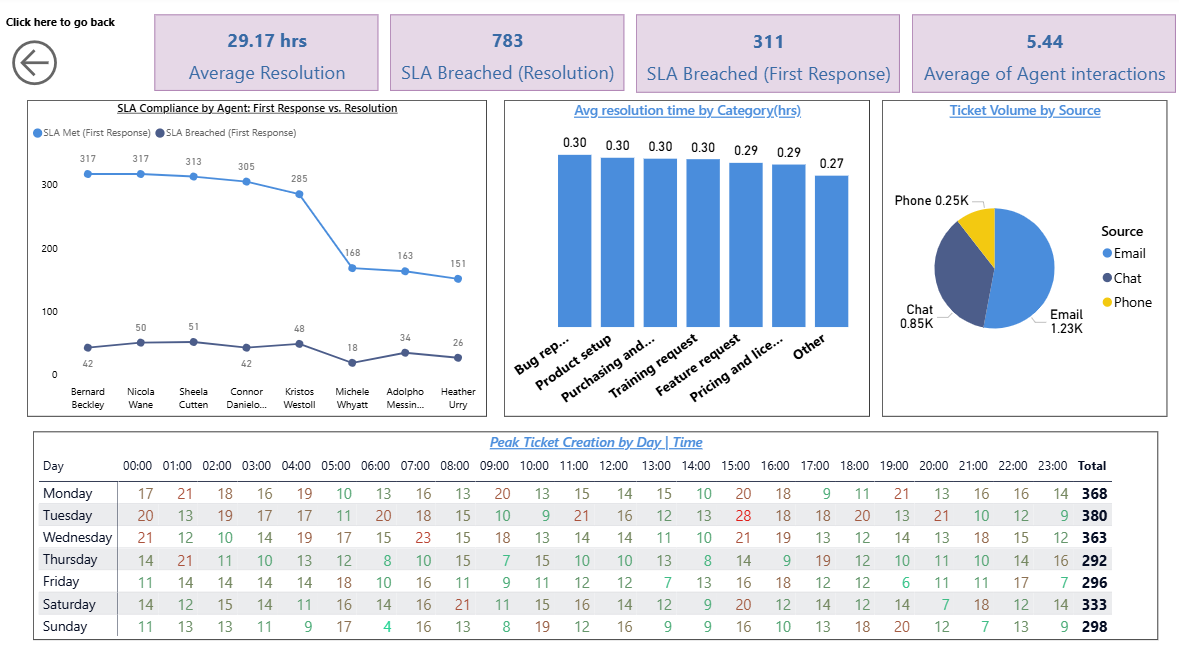

What the dashboard file says about the page in this screenshot:
{"tool":"powerbi","page":{"name":"SLA & Resolution Analysis","canvas":[1280,720],"ordinal":1},"visuals":[{"type":"pivotTable","title":"Peak Ticket Creation by Day | Time","fields":{"Rows":["Technical support.WeekdayName"],"Columns":["Technical support.Create time"],"Values":["CountNonNull(Technical support.Ticket ID)"]},"box":[35.8,473.3,1219.9,226.1],"z":0},{"type":"card","title":"Avg resolution Time ","fields":{"Values":["Measure.Average Resolution"]},"box":[167.5,21.1,242.4,83],"z":1000},{"type":"card","title":"Avg resolution Time ","fields":{"Values":["Measure.SLA Breached (Resolution)"]},"box":[422.9,21.1,253.7,83],"z":2000},{"type":"card","title":"Avg resolution Time ","fields":{"Values":["Measure.SLA Breached (First Response)"]},"box":[689.7,21.1,286.3,84.6],"z":3000},{"type":"card","title":"Avg resolution Time ","fields":{"Values":["Avg(Technical support.Agent interactions)"]},"box":[988.9,21.1,286.3,84.6],"z":4000},{"type":"columnChart","title":"Avg resolution time by Category(hrs)","fields":{"Category":["Technical support.Topic"],"Y":["Measure.Avg res"]},"box":[546.5,113.9,396.9,343.2],"z":5000},{"type":"pieChart","title":"Ticket Volume by Source","fields":{"Category":["Technical support.Source"],"Y":["CountNonNull(Technical support.Ticket ID)"]},"box":[956.4,113.9,309,343.2],"z":7000},{"type":"actionButton","title":"Click here to go back","box":[6.5,21.1,146.4,83],"z":8000},{"type":"lineChart","title":"SLA Compliance by Agent: First Response vs. Resolution","fields":{"Y":["Measure.SLA Met (First Response)","Measure.SLA Breached (First Response)"],"Category":["Technical support.Agent Name"]},"box":[30,113.3,498.3,343.3],"z":8001}]}

Visuals, with their boxes in screenshot pixels (x1, y1, x2, y2), scaled from the page's 1280x720 canvas onto the 1179x650 screenshot:
"Peak Ticket Creation by Day | Time" pivotTable: left=33, top=427, right=1157, bottom=631
"Avg resolution Time " card: left=154, top=19, right=378, bottom=94
"Avg resolution Time " card: left=390, top=19, right=623, bottom=94
"Avg resolution Time " card: left=635, top=19, right=899, bottom=95
"Avg resolution Time " card: left=911, top=19, right=1175, bottom=95
"Avg resolution time by Category(hrs)" columnChart: left=503, top=103, right=869, bottom=413
"Ticket Volume by Source" pieChart: left=881, top=103, right=1166, bottom=413
"Click here to go back" actionButton: left=6, top=19, right=141, bottom=94
"SLA Compliance by Agent: First Response vs. Resolution" lineChart: left=28, top=102, right=487, bottom=412
